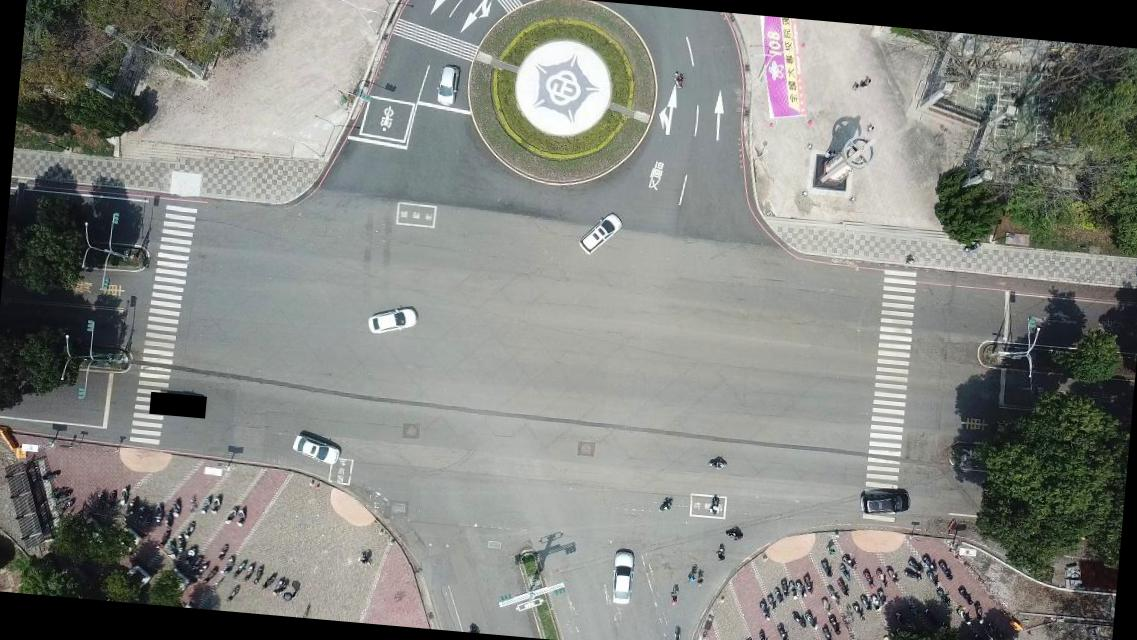vehicle: (578, 210, 623, 259), (288, 434, 343, 466), (364, 304, 419, 336), (858, 485, 910, 518), (608, 548, 634, 606), (433, 62, 460, 108)
